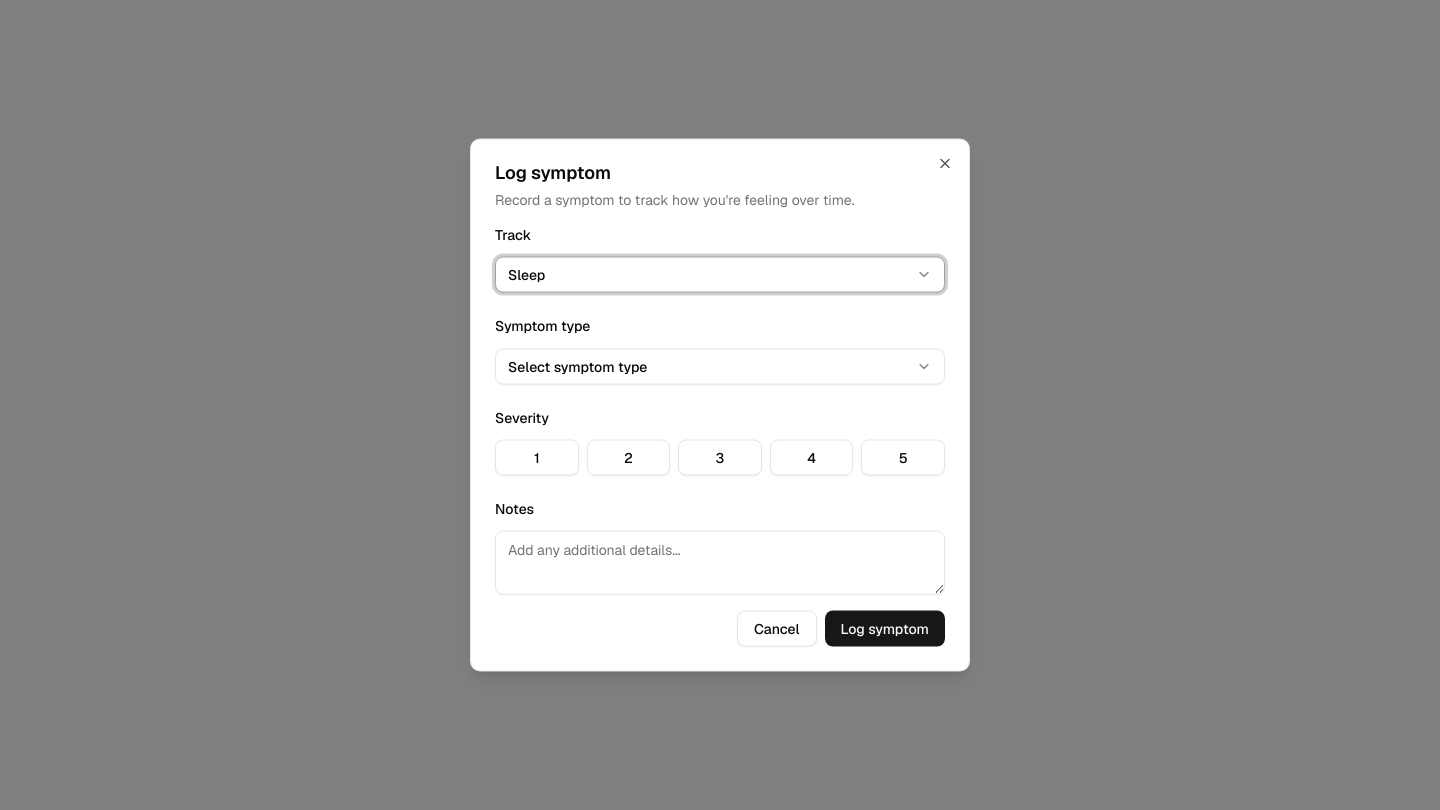
Scenario: SymptomDialogue › displays fallback error message when API throws non-Error
# Fill required fields first
Click the dropdown labelled "Select symptom type": (578, 366) [495, 348, 945, 384]
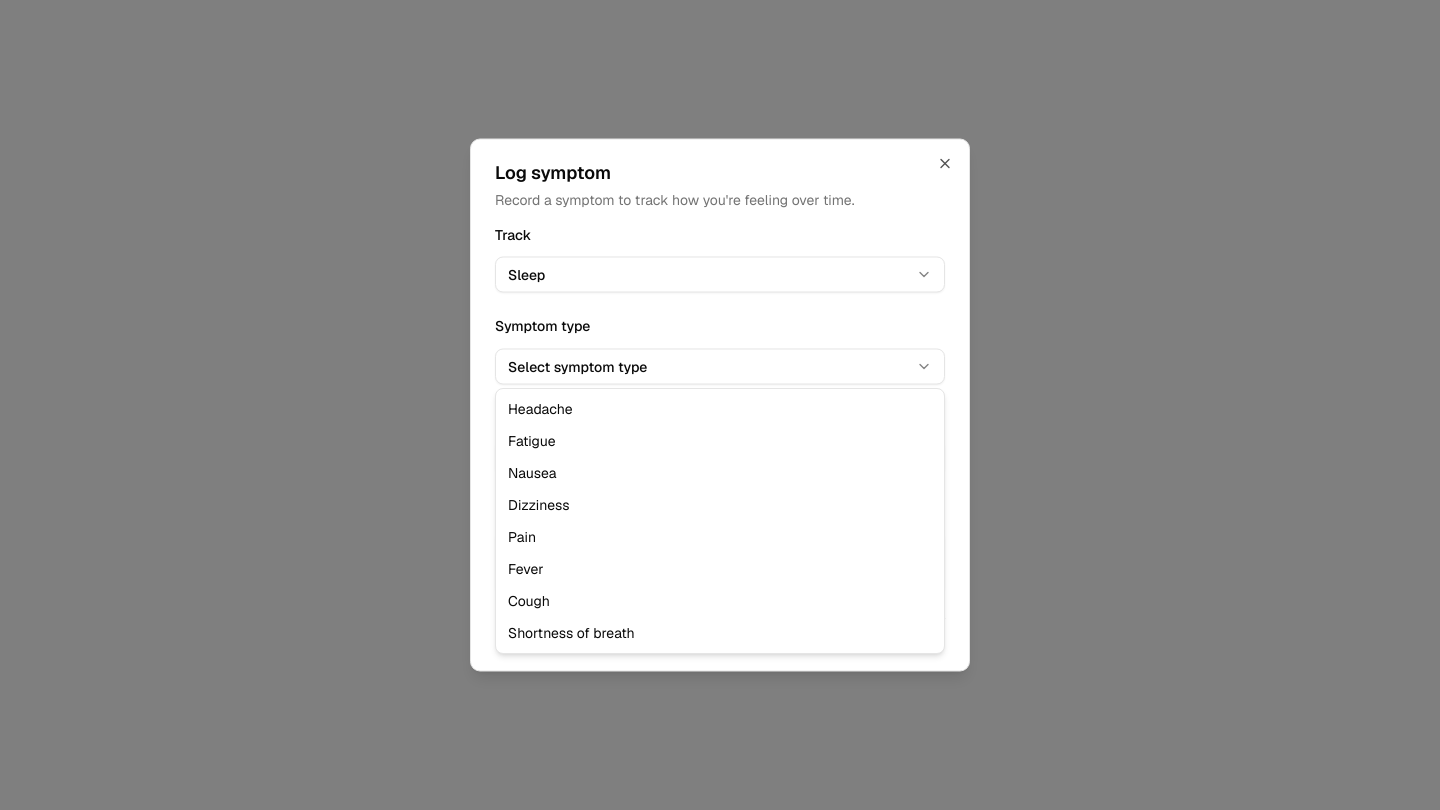
Click the menu item "Headache": (540, 409) [508, 400, 572, 418]
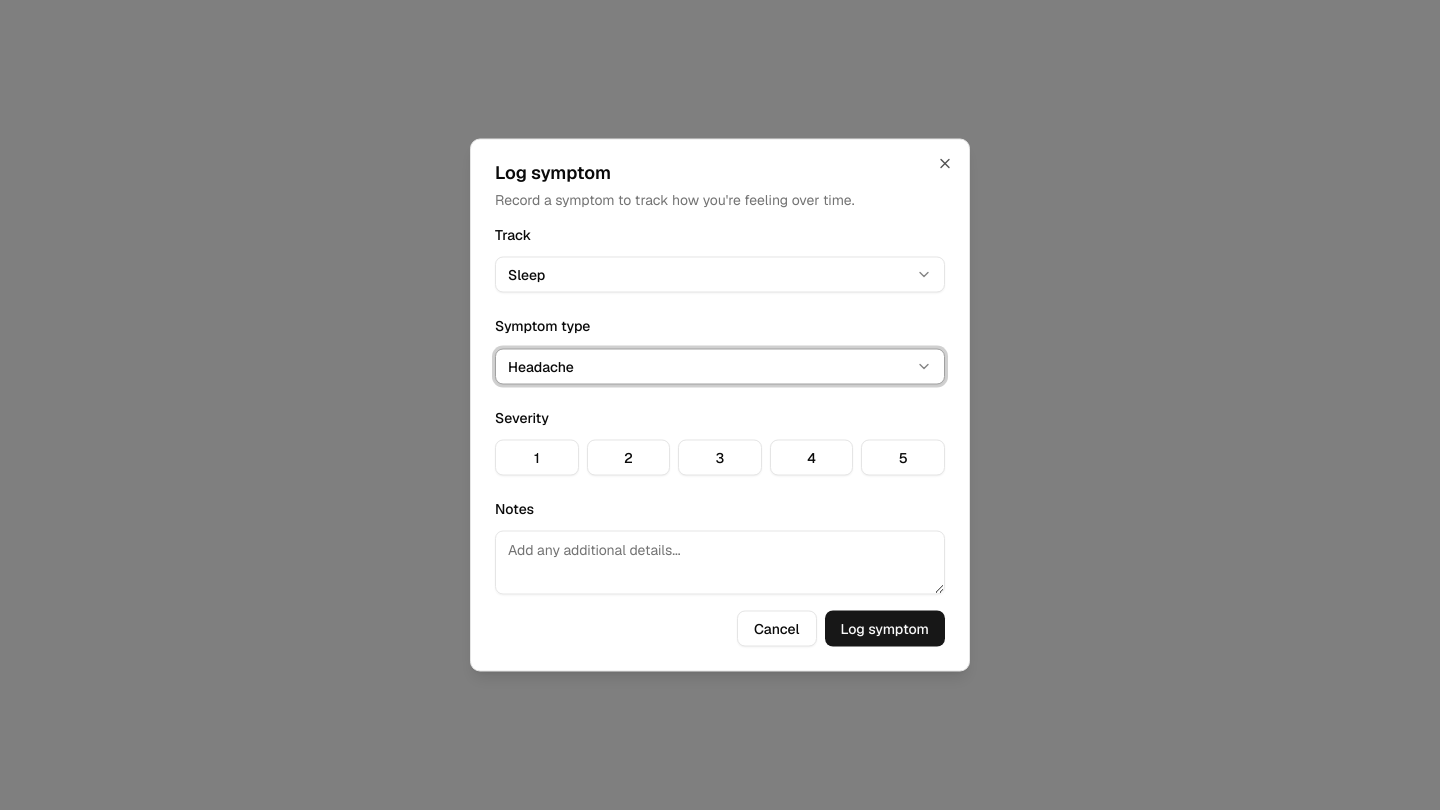
Click the button named "Severity 3: Moderate": (720, 457) [678, 439, 762, 475]
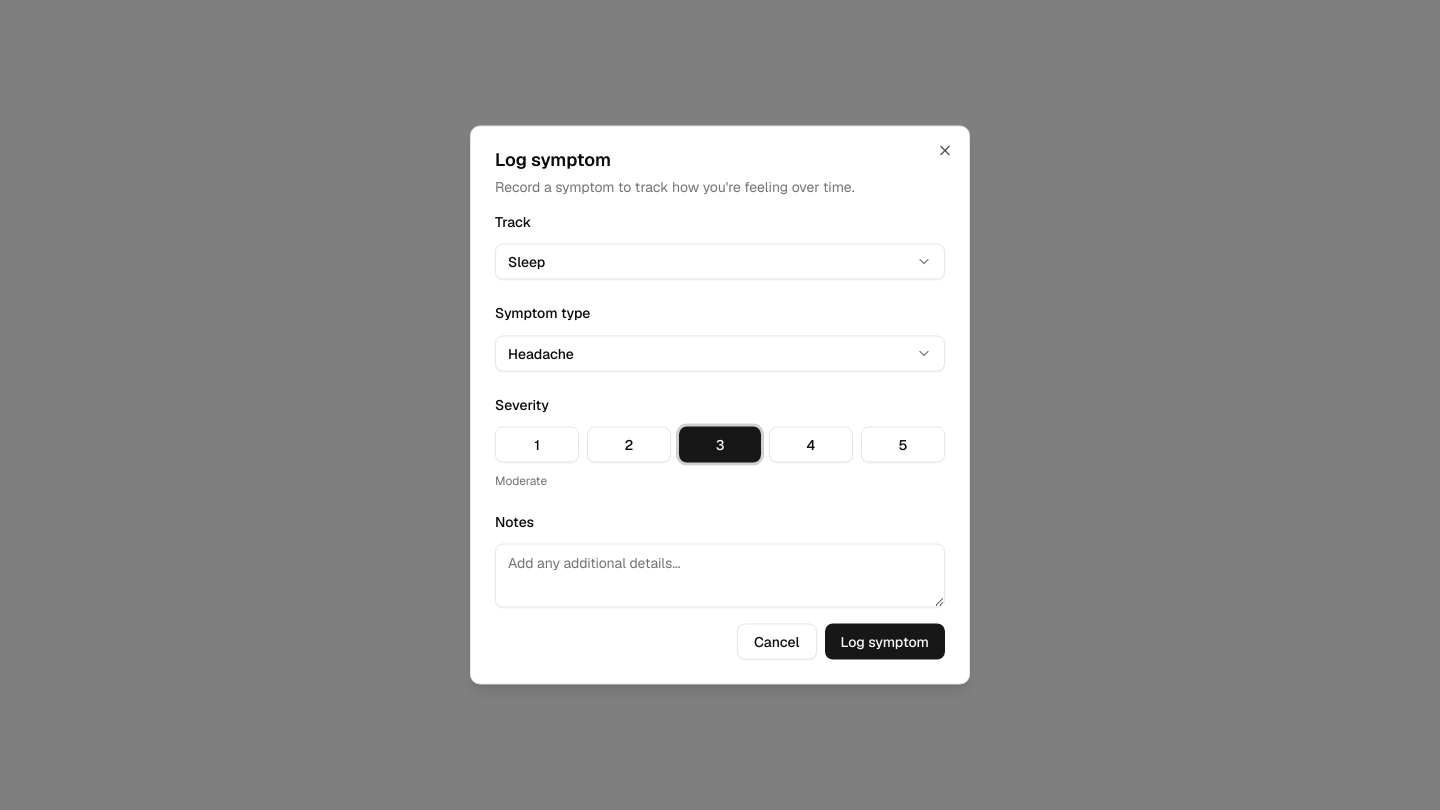
Click the button "Log symptom": (885, 642) [824, 624, 945, 660]
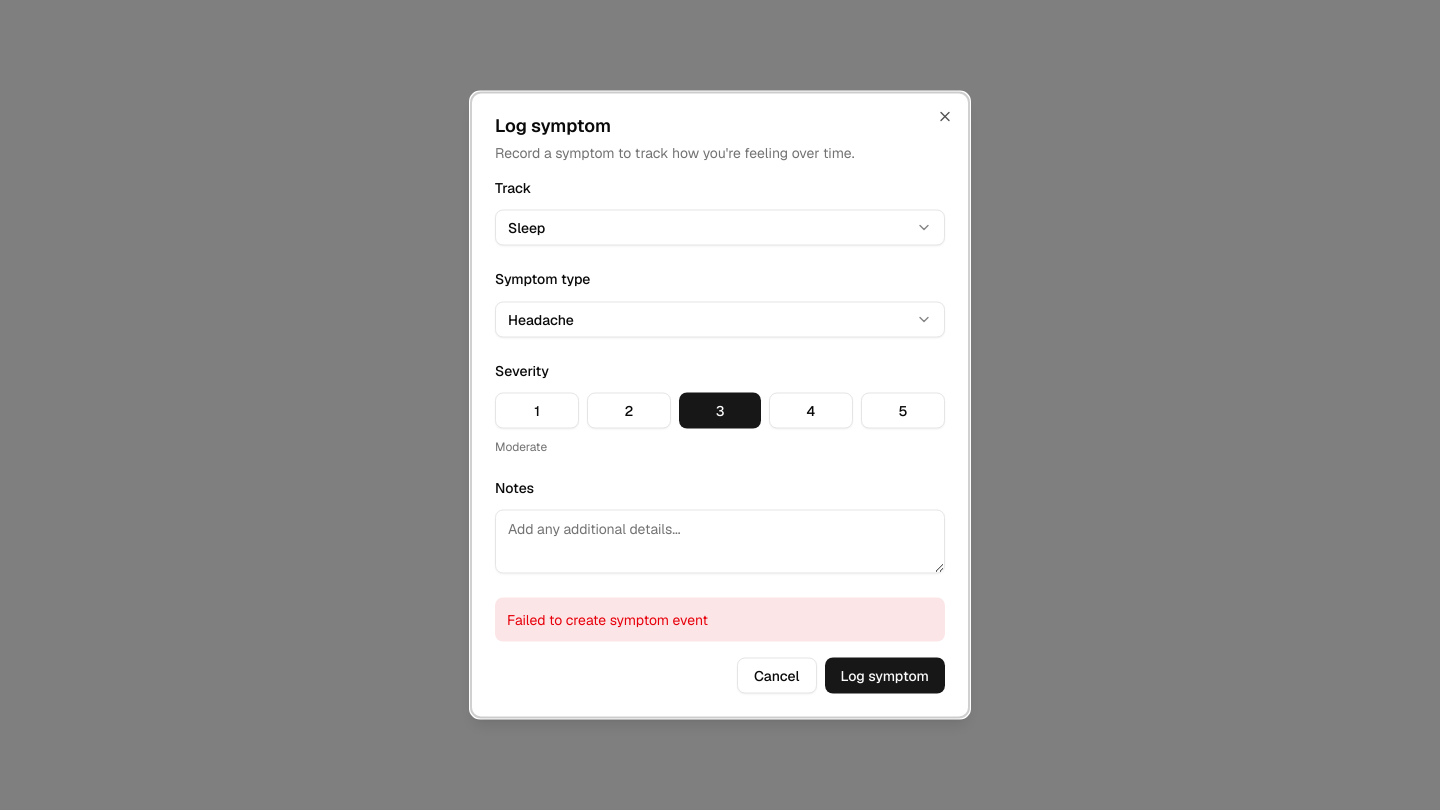
Result: the text "Failed to create symptom event" is shown at [495, 598, 945, 642]
